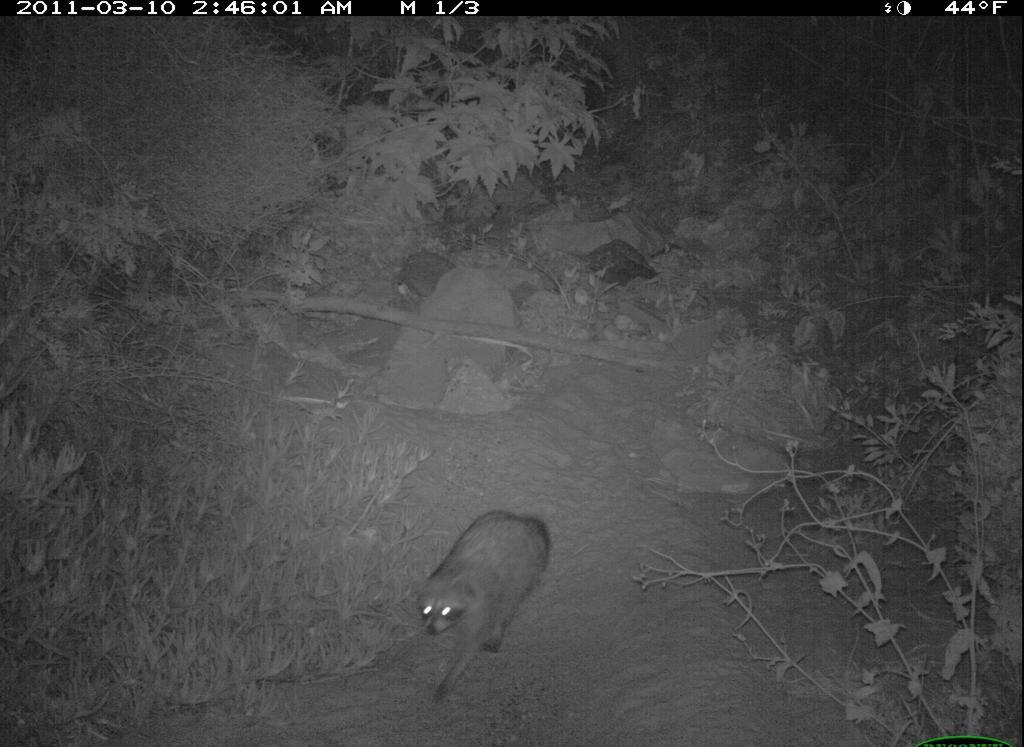raccoon: (415, 505, 557, 712)
